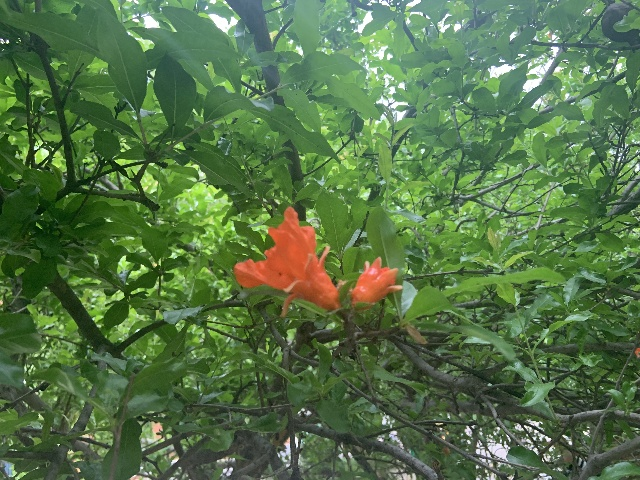flower: (232, 206, 339, 316), (350, 256, 403, 310)
